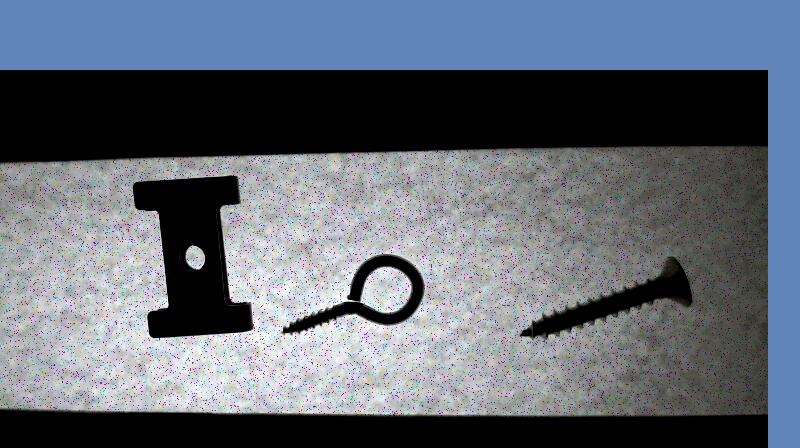O001: (277, 252, 428, 338)
O002: (126, 172, 254, 344)
S001: (514, 253, 693, 343)
